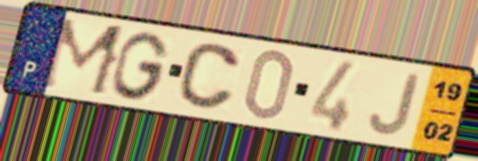0: (240, 48, 296, 122)
4: (306, 57, 359, 134)
C: (174, 41, 243, 113)
G: (109, 29, 172, 102)
J: (367, 72, 424, 138)
M: (36, 15, 131, 100)
